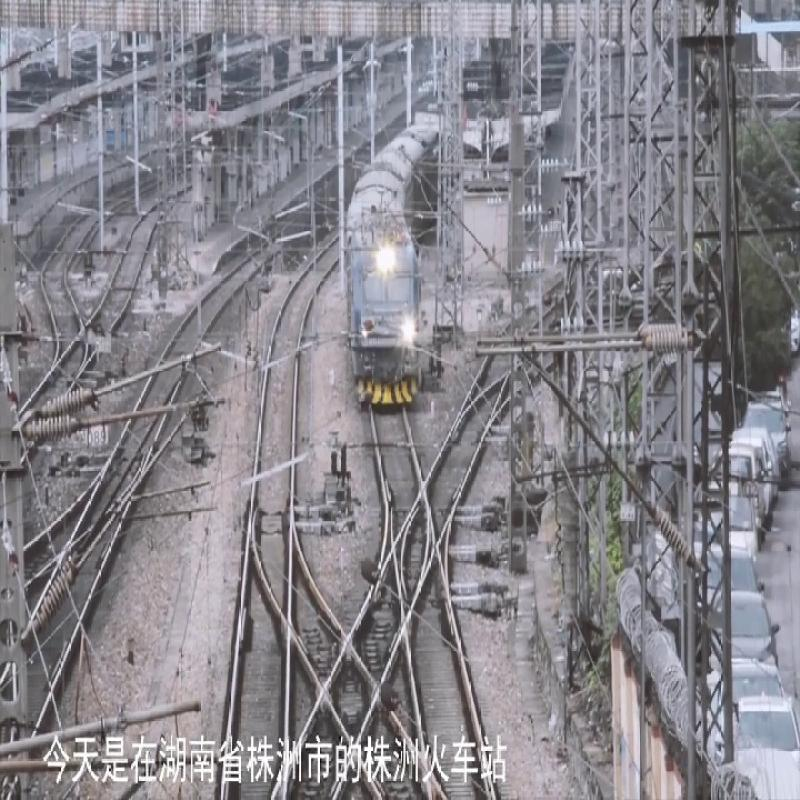train: (330, 210, 436, 418)
